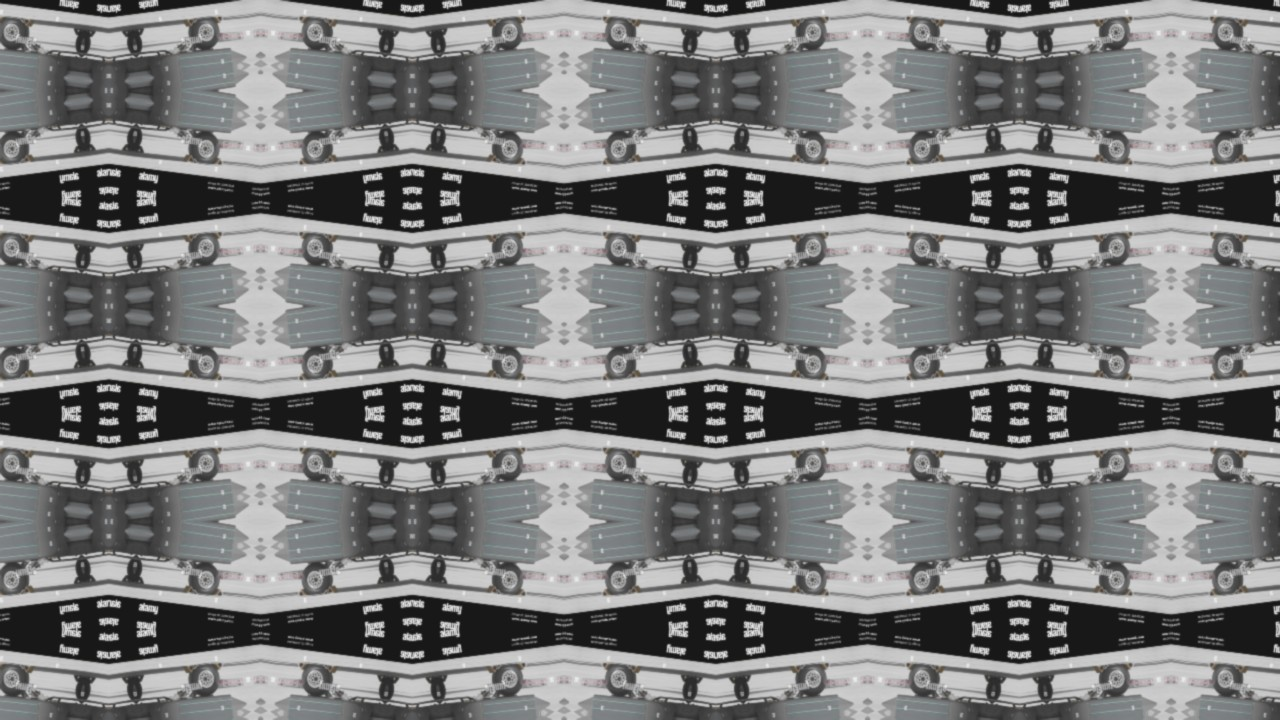chock: (21, 18, 34, 27), (182, 18, 195, 27), (325, 18, 338, 27), (486, 18, 499, 27), (629, 18, 642, 27), (790, 18, 803, 27), (933, 18, 946, 27), (1094, 18, 1107, 27), (1237, 18, 1250, 27), (21, 153, 34, 162), (182, 153, 195, 162), (325, 153, 338, 162), (486, 153, 499, 162), (629, 153, 642, 162), (790, 153, 803, 162), (933, 153, 946, 162), (1094, 153, 1107, 162), (1237, 153, 1250, 162), (21, 234, 34, 243), (182, 234, 195, 243), (325, 234, 338, 243), (486, 234, 499, 243), (629, 234, 642, 243), (790, 234, 803, 243), (933, 234, 946, 243), (1094, 234, 1107, 243), (1237, 234, 1250, 243), (21, 369, 34, 378), (182, 369, 195, 378), (325, 369, 338, 378), (486, 369, 499, 378), (629, 369, 642, 378), (790, 369, 803, 378), (933, 369, 946, 378), (1094, 369, 1107, 378), (1237, 369, 1250, 378), (21, 450, 34, 459), (182, 450, 195, 459), (325, 450, 338, 459), (486, 450, 499, 459), (629, 450, 642, 459), (790, 450, 803, 459), (933, 450, 946, 459), (1094, 450, 1107, 459), (1237, 450, 1250, 459), (21, 585, 34, 594), (182, 585, 195, 594), (325, 585, 338, 594), (486, 585, 499, 594), (629, 585, 642, 594), (790, 585, 803, 594), (933, 585, 946, 594), (1094, 585, 1107, 594), (1237, 585, 1250, 594), (21, 666, 34, 675), (182, 666, 195, 675), (325, 666, 338, 675), (486, 666, 499, 675), (629, 666, 642, 675), (790, 666, 803, 675), (933, 666, 946, 675), (1094, 666, 1107, 675), (1237, 666, 1250, 675), (211, 14, 223, 23), (297, 14, 309, 23), (515, 14, 527, 23), (601, 14, 613, 23), (819, 14, 831, 23), (905, 14, 917, 23), (1123, 14, 1135, 23), (1209, 14, 1221, 23), (211, 157, 223, 166), (297, 157, 309, 166), (515, 157, 527, 166), (601, 157, 613, 166), (819, 157, 831, 166), (905, 157, 917, 166), (1123, 157, 1135, 166), (1209, 157, 1221, 166), (211, 230, 223, 239), (297, 230, 309, 239), (515, 230, 527, 239), (601, 230, 613, 239), (819, 230, 831, 239), (905, 230, 917, 239), (1123, 230, 1135, 239), (1209, 230, 1221, 239), (211, 373, 223, 382), (297, 373, 309, 382), (515, 373, 527, 382), (601, 373, 613, 382), (819, 373, 831, 382), (905, 373, 917, 382), (1123, 373, 1135, 382), (1209, 373, 1221, 382), (211, 446, 223, 455), (297, 446, 309, 455), (515, 446, 527, 455), (601, 446, 613, 455), (819, 446, 831, 455), (905, 446, 917, 455), (1123, 446, 1135, 455), (1209, 446, 1221, 455), (211, 589, 223, 598), (297, 589, 309, 598), (515, 589, 527, 598), (601, 589, 613, 598), (819, 589, 831, 598), (905, 589, 917, 598), (1123, 589, 1135, 598), (1209, 589, 1221, 598), (211, 662, 223, 671), (297, 662, 309, 671), (515, 662, 527, 671), (601, 662, 613, 671), (819, 662, 831, 671), (905, 662, 917, 671), (1123, 662, 1135, 671), (1209, 662, 1221, 671), (72, 27, 83, 36), (133, 27, 144, 36), (376, 27, 387, 36), (437, 27, 448, 36), (680, 27, 691, 36), (741, 27, 752, 36), (984, 27, 995, 36), (1045, 27, 1056, 36), (72, 144, 83, 153), (133, 144, 144, 153), (376, 144, 387, 153), (437, 144, 448, 153), (680, 144, 691, 153), (741, 144, 752, 153), (984, 144, 995, 153), (1045, 144, 1056, 153), (72, 243, 83, 252), (133, 243, 144, 252), (376, 243, 387, 252), (437, 243, 448, 252), (680, 243, 691, 252), (741, 243, 752, 252), (984, 243, 995, 252), (1045, 243, 1056, 252), (72, 360, 83, 369), (133, 360, 144, 369), (376, 360, 387, 369), (437, 360, 448, 369), (680, 360, 691, 369), (741, 360, 752, 369), (984, 360, 995, 369), (1045, 360, 1056, 369), (72, 459, 83, 468), (133, 459, 144, 468), (376, 459, 387, 468), (437, 459, 448, 468), (680, 459, 691, 468), (741, 459, 752, 468), (984, 459, 995, 468), (1045, 459, 1056, 468), (72, 576, 83, 585), (133, 576, 144, 585), (376, 576, 387, 585), (437, 576, 448, 585), (680, 576, 691, 585), (741, 576, 752, 585), (984, 576, 995, 585), (1045, 576, 1056, 585), (72, 675, 83, 684), (133, 675, 144, 684), (376, 675, 387, 684), (437, 675, 448, 684), (680, 675, 691, 684), (741, 675, 752, 684), (984, 675, 995, 684), (1045, 675, 1056, 684), (84, 29, 95, 37), (121, 29, 132, 37), (388, 29, 399, 37), (425, 29, 436, 37), (692, 29, 703, 37), (729, 29, 740, 37), (996, 29, 1007, 37), (1033, 29, 1044, 37), (84, 143, 95, 151), (121, 143, 132, 151), (388, 143, 399, 151), (425, 143, 436, 151), (692, 143, 703, 151), (729, 143, 740, 151), (996, 143, 1007, 151), (1033, 143, 1044, 151), (84, 245, 95, 253), (121, 245, 132, 253), (388, 245, 399, 253), (425, 245, 436, 253), (692, 245, 703, 253), (729, 245, 740, 253), (996, 245, 1007, 253), (1033, 245, 1044, 253), (84, 359, 95, 367), (121, 359, 132, 367), (388, 359, 399, 367), (425, 359, 436, 367), (692, 359, 703, 367), (729, 359, 740, 367), (996, 359, 1007, 367), (1033, 359, 1044, 367), (84, 461, 95, 469), (121, 461, 132, 469), (388, 461, 399, 469), (425, 461, 436, 469), (692, 461, 703, 469), (729, 461, 740, 469), (996, 461, 1007, 469), (1033, 461, 1044, 469), (84, 575, 95, 583), (121, 575, 132, 583), (388, 575, 399, 583), (425, 575, 436, 583), (692, 575, 703, 583), (729, 575, 740, 583), (996, 575, 1007, 583), (1033, 575, 1044, 583), (84, 677, 95, 685), (121, 677, 132, 685), (388, 677, 399, 685), (425, 677, 436, 685), (692, 677, 703, 685), (729, 677, 740, 685), (996, 677, 1007, 685), (1033, 677, 1044, 685), (0, 14, 5, 23), (0, 157, 5, 166), (0, 230, 5, 239), (0, 373, 5, 382), (0, 446, 5, 455), (0, 589, 5, 598), (0, 662, 5, 671)
wheel: (186, 16, 221, 51), (299, 16, 334, 51), (490, 16, 525, 51), (603, 16, 638, 51), (794, 16, 829, 51), (907, 16, 942, 51), (1098, 16, 1133, 51), (1211, 16, 1246, 51), (186, 129, 221, 164), (299, 129, 334, 164), (490, 129, 525, 164), (603, 129, 638, 164), (794, 129, 829, 164), (907, 129, 942, 164), (1098, 129, 1133, 164), (1211, 129, 1246, 164), (186, 232, 221, 267), (299, 232, 334, 267), (490, 232, 525, 267), (603, 232, 638, 267), (794, 232, 829, 267), (907, 232, 942, 267), (1098, 232, 1133, 267), (1211, 232, 1246, 267), (186, 345, 221, 380), (299, 345, 334, 380), (490, 345, 525, 380), (603, 345, 638, 380), (794, 345, 829, 380), (907, 345, 942, 380), (1098, 345, 1133, 380), (1211, 345, 1246, 380), (186, 448, 221, 483), (299, 448, 334, 483), (490, 448, 525, 483), (603, 448, 638, 483), (794, 448, 829, 483), (907, 448, 942, 483), (1098, 448, 1133, 483), (1211, 448, 1246, 483), (186, 561, 221, 596), (299, 561, 334, 596), (490, 561, 525, 596), (603, 561, 638, 596), (794, 561, 829, 596), (907, 561, 942, 596), (1098, 561, 1133, 596), (1211, 561, 1246, 596), (186, 664, 221, 699), (299, 664, 334, 699), (490, 664, 525, 699), (603, 664, 638, 699), (794, 664, 829, 699), (907, 664, 942, 699), (1098, 664, 1133, 699), (1211, 664, 1246, 699), (0, 16, 30, 51), (0, 129, 30, 164), (0, 232, 30, 267), (0, 345, 30, 380), (0, 448, 30, 483), (0, 561, 30, 596), (0, 664, 30, 699), (73, 29, 84, 53), (81, 30, 92, 54), (132, 29, 143, 53), (124, 30, 135, 54), (377, 29, 388, 53), (385, 30, 396, 54), (436, 29, 447, 53), (428, 30, 439, 54), (681, 29, 692, 53), (689, 30, 700, 54), (740, 29, 751, 53), (732, 30, 743, 54), (985, 29, 996, 53), (993, 30, 1004, 54), (1044, 29, 1055, 53), (1036, 30, 1047, 54), (73, 127, 84, 151), (81, 126, 92, 150), (132, 127, 143, 151), (124, 126, 135, 150), (377, 127, 388, 151), (385, 126, 396, 150), (436, 127, 447, 151), (428, 126, 439, 150), (681, 127, 692, 151), (689, 126, 700, 150), (740, 127, 751, 151), (732, 126, 743, 150), (985, 127, 996, 151), (993, 126, 1004, 150), (1044, 127, 1055, 151), (1036, 126, 1047, 150), (73, 245, 84, 269), (81, 246, 92, 270), (132, 245, 143, 269), (124, 246, 135, 270), (377, 245, 388, 269), (385, 246, 396, 270), (436, 245, 447, 269), (428, 246, 439, 270), (681, 245, 692, 269), (689, 246, 700, 270), (740, 245, 751, 269), (732, 246, 743, 270), (985, 245, 996, 269), (993, 246, 1004, 270), (1044, 245, 1055, 269), (1036, 246, 1047, 270), (73, 343, 84, 367), (81, 342, 92, 366), (132, 343, 143, 367), (124, 342, 135, 366), (377, 343, 388, 367), (385, 342, 396, 366), (436, 343, 447, 367), (428, 342, 439, 366), (681, 343, 692, 367), (689, 342, 700, 366), (740, 343, 751, 367), (732, 342, 743, 366), (985, 343, 996, 367), (993, 342, 1004, 366), (1044, 343, 1055, 367), (1036, 342, 1047, 366), (73, 461, 84, 485), (81, 462, 92, 486), (132, 461, 143, 485), (124, 462, 135, 486), (377, 461, 388, 485), (385, 462, 396, 486), (436, 461, 447, 485), (428, 462, 439, 486), (681, 461, 692, 485), (689, 462, 700, 486), (740, 461, 751, 485), (732, 462, 743, 486), (985, 461, 996, 485), (993, 462, 1004, 486), (1044, 461, 1055, 485), (1036, 462, 1047, 486), (73, 559, 84, 583), (81, 558, 92, 582), (132, 559, 143, 583), (124, 558, 135, 582), (377, 559, 388, 583), (385, 558, 396, 582), (436, 559, 447, 583), (428, 558, 439, 582), (681, 559, 692, 583), (689, 558, 700, 582), (740, 559, 751, 583), (732, 558, 743, 582), (985, 559, 996, 583), (993, 558, 1004, 582), (1044, 559, 1055, 583), (1036, 558, 1047, 582), (73, 677, 84, 701), (81, 678, 92, 702), (132, 677, 143, 701), (124, 678, 135, 702), (377, 677, 388, 701), (385, 678, 396, 702), (436, 677, 447, 701), (428, 678, 439, 702), (681, 677, 692, 701), (689, 678, 700, 702), (740, 677, 751, 701), (732, 678, 743, 702), (985, 677, 996, 701), (993, 678, 1004, 702), (1044, 677, 1055, 701), (1036, 678, 1047, 702)
